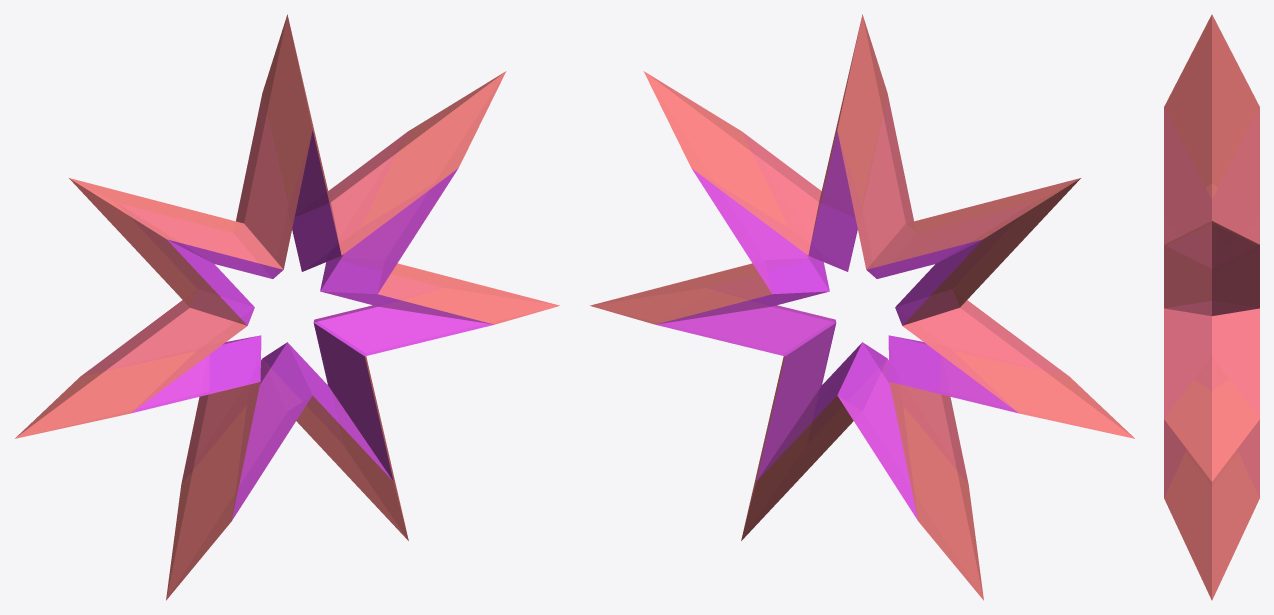
The model's file is Regular7TetragonalStarToroid.obj.
3 views of the same model, side by side, from view 1: azimuth 30°, elevation 25°; view 2: azimuth 150°, elevation 25°; view 3: azimuth 270°, elevation 25° (orthographic). The views are drawn at different scales.
Bounding box in the file's own units: 4.38 × 4.27 × 0.7.
